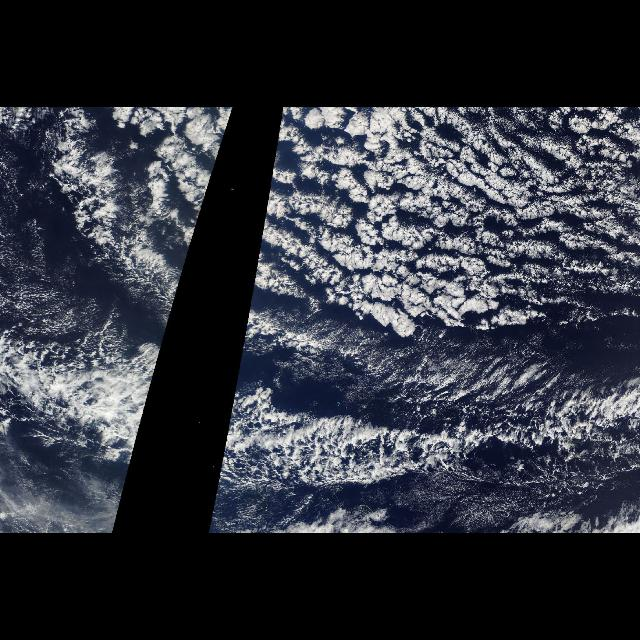Fish: (217, 346, 608, 484), (7, 346, 165, 484)
Flower: (242, 107, 630, 341), (118, 107, 234, 341)
Sugar: (0, 122, 110, 346), (361, 480, 624, 520)
